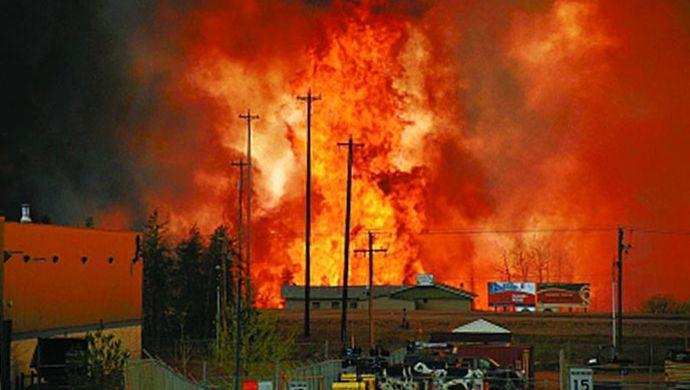fire: (205, 15, 454, 277)
